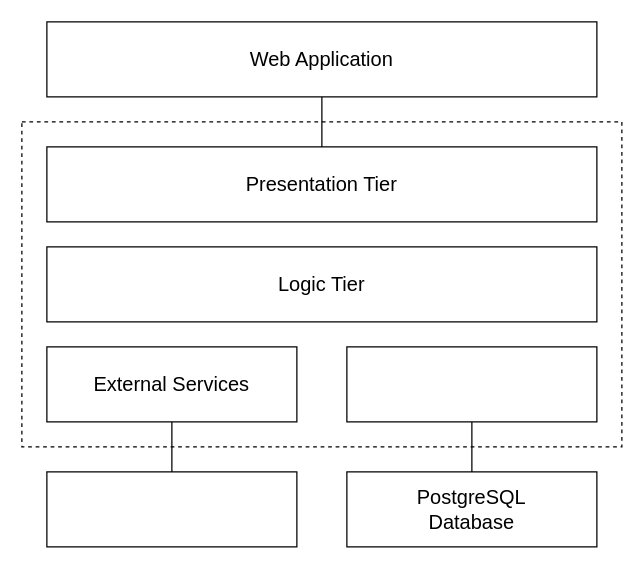
The diagram is 644 pixels wide and 569 high, and some of its shapes have lost their labels. Each missing label, with the centre of its shape:
"Azure DevOps REST API" belongs at [171,509].
"Data Tier" belongs at [471,384].
